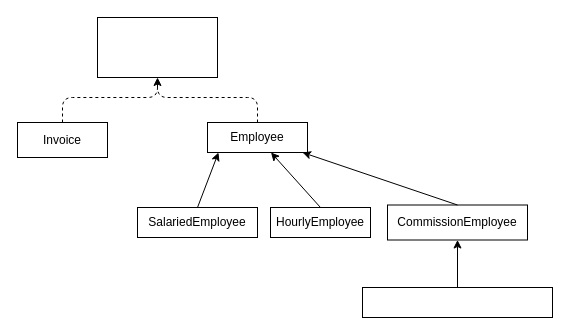
This 570x335 diagram has some shape labels left out. Each missing label, with the centre of its shape:
<<interface>> Payable: pixel 157 47
BasePlusCommissionEmployee: pixel 457 302
